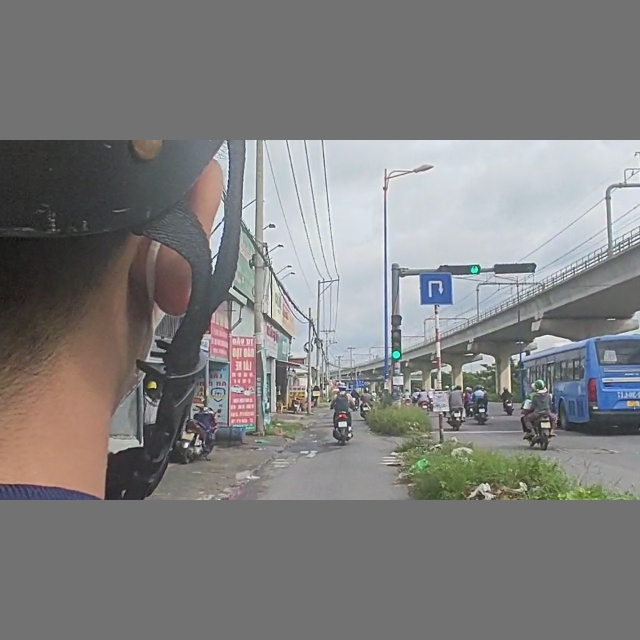I.409: (417, 271, 455, 305)
